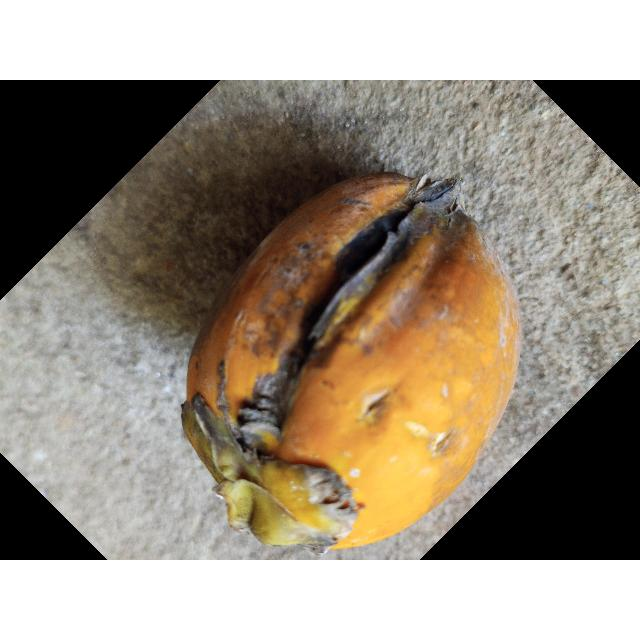damaged: (180, 174, 522, 557)
